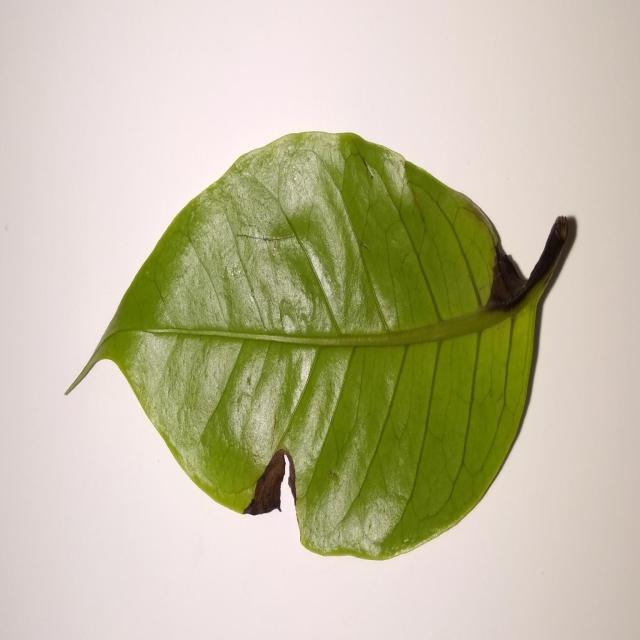Enfermedad-Antracnosis: (68, 131, 578, 564)
